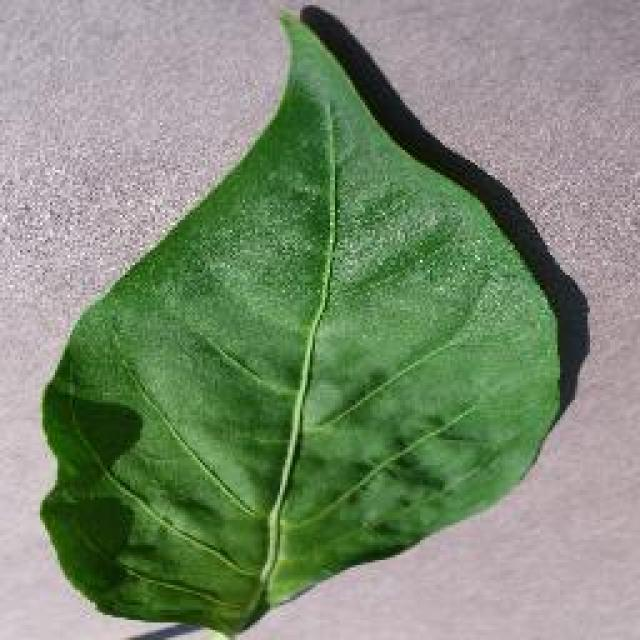Chilli_Healthy: (37, 2, 565, 638)
